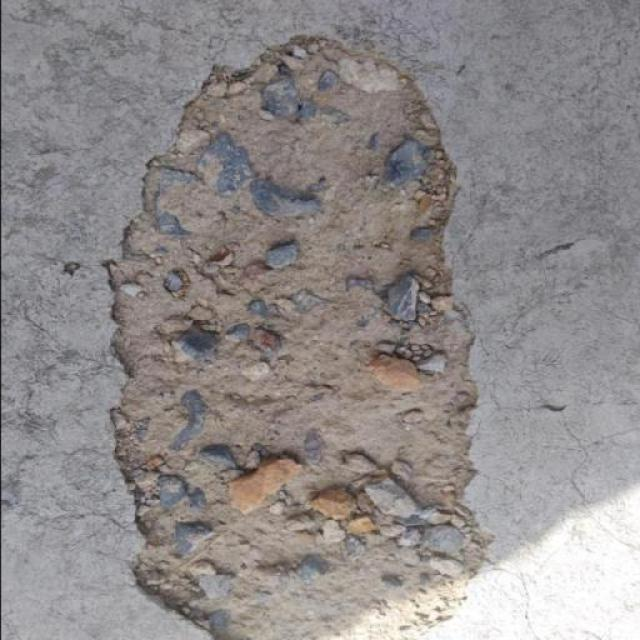D10: (102, 32, 494, 639)
